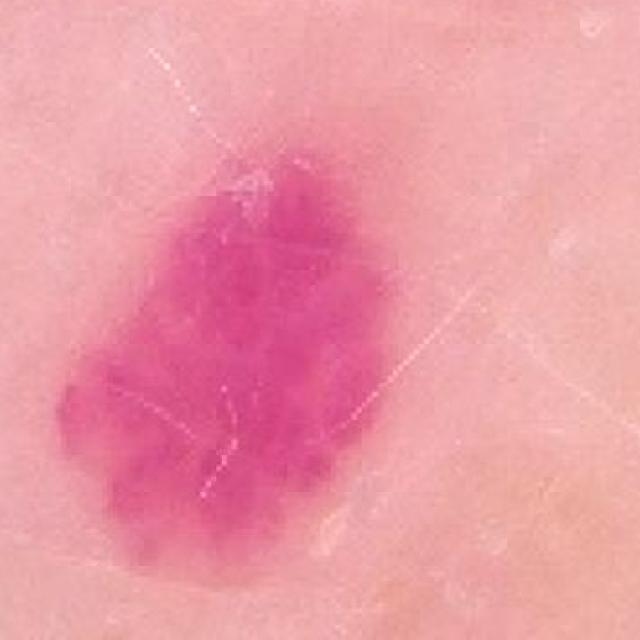VASC: (24, 68, 534, 628)
